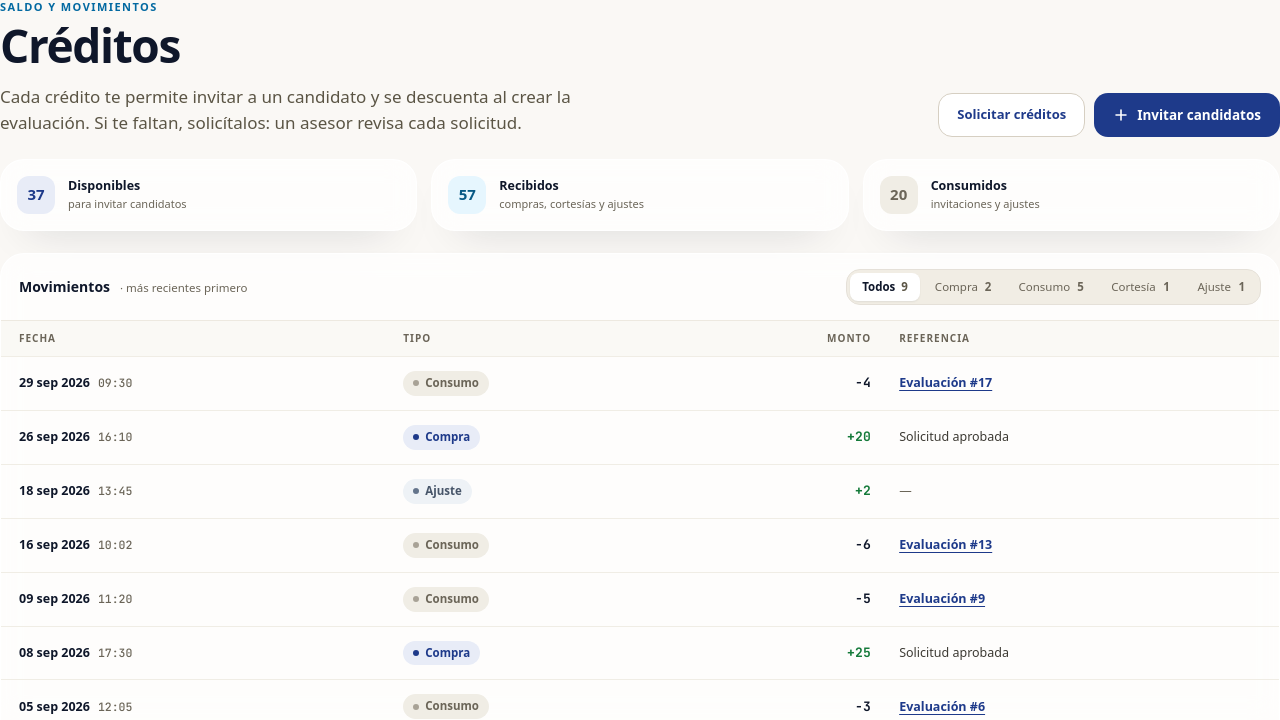
Test: CreditosPage · solicitud de créditos › «Solicitar créditos» abre el drawer, pone ?solicitar=1 y, al cerrar, devuelve el foco
Click the button "Solicitar créditos" at (1012, 115), box x1=938 y1=93 x2=1085 y2=137
(page scrolled)
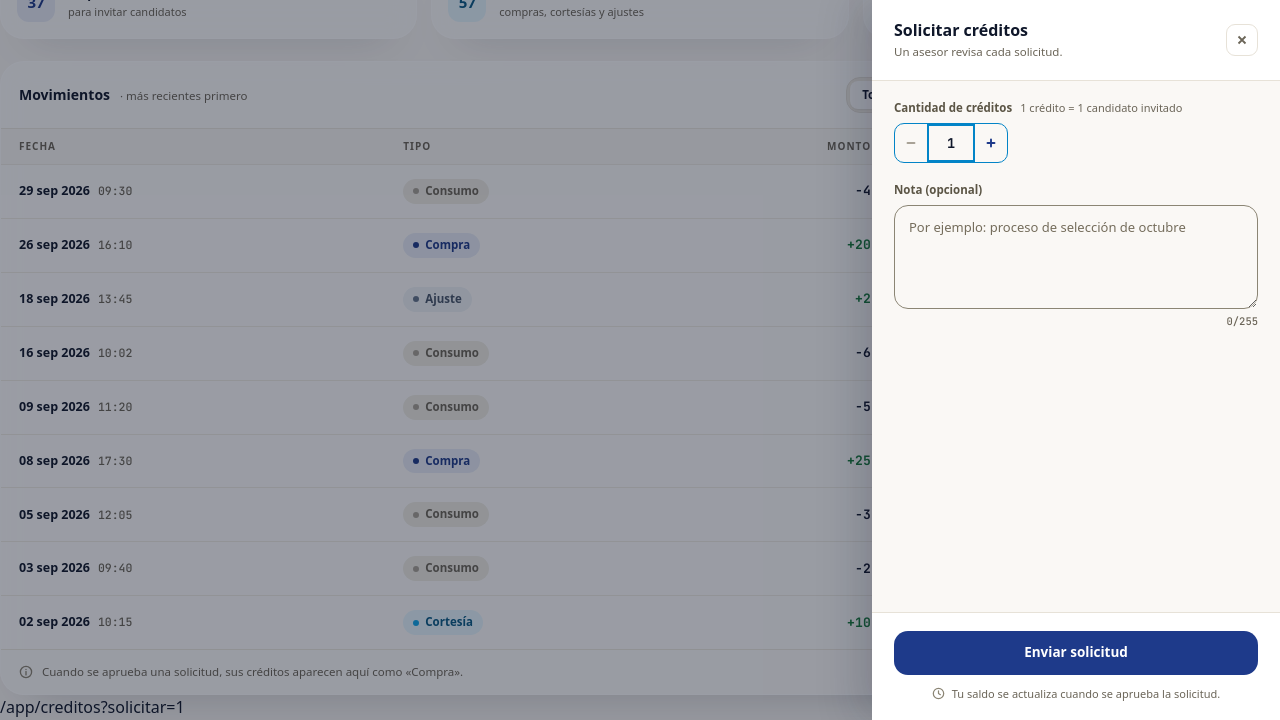
Expected: the dialog "Solicitar créditos" is shown, x1=872 y1=0 x2=1279 y2=719
Expected: the text with test id "ubicacion" reads "/app/creditos?solicitar=1", x1=0 y1=696 x2=185 y2=718
Press Escape
(page scrolled)
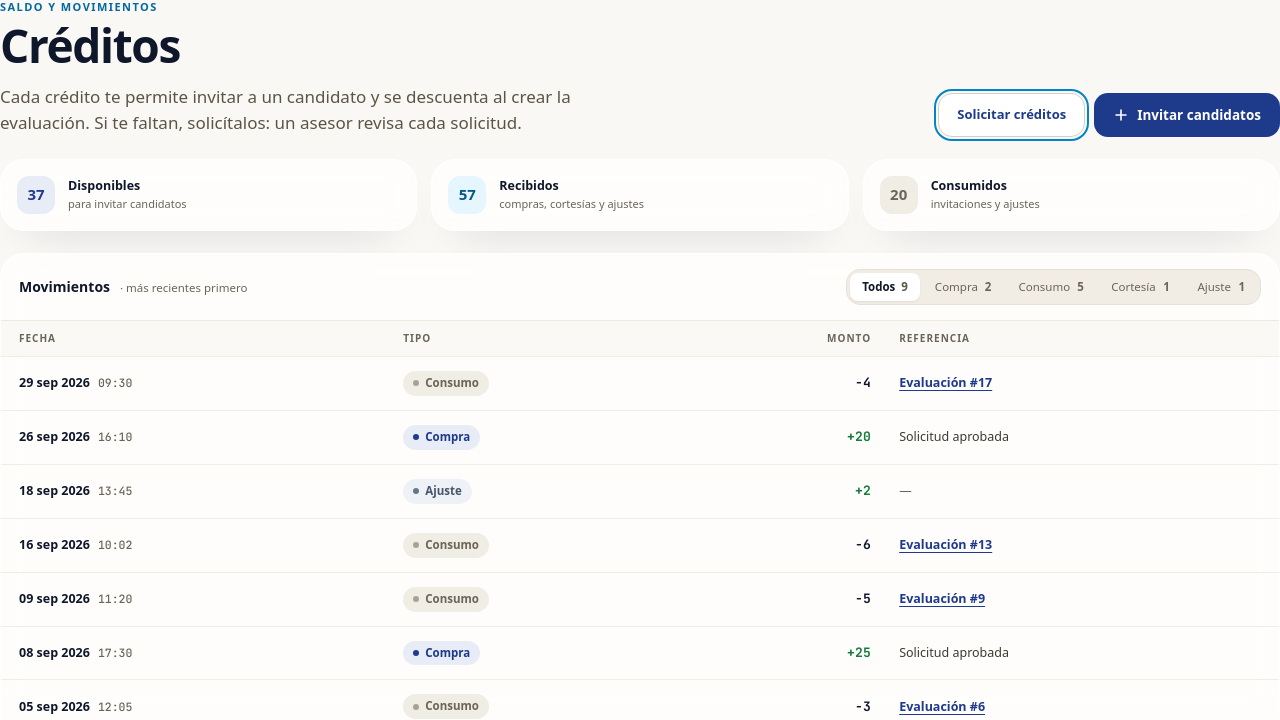
Expected: the dialog is gone
